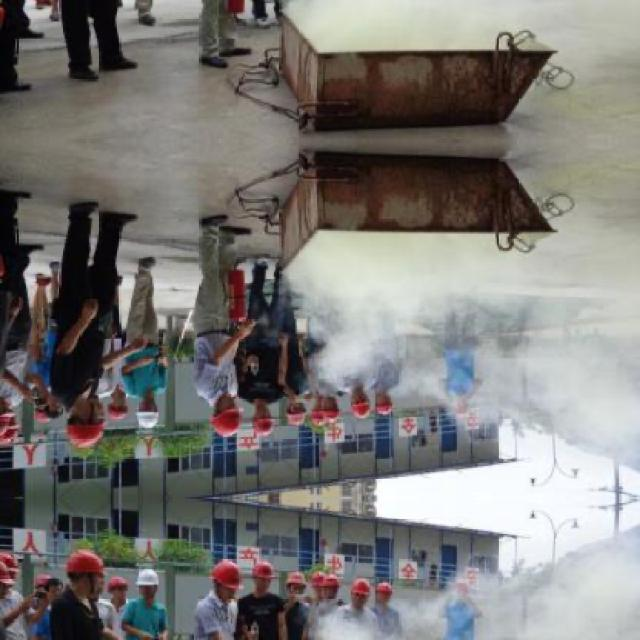con casco: (49, 390, 103, 455), (274, 378, 324, 432), (132, 386, 180, 442), (198, 389, 245, 443), (255, 397, 282, 447)
